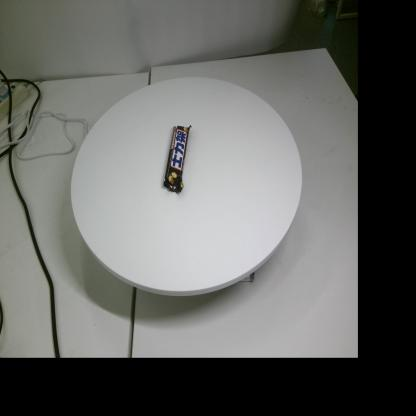Chocolate: (164, 125, 192, 193)
